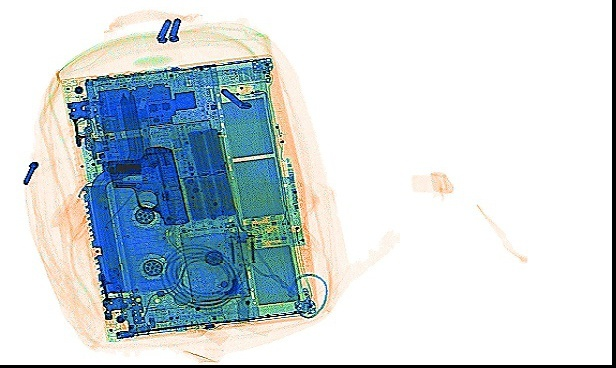powerbank: (164, 122, 236, 223)
